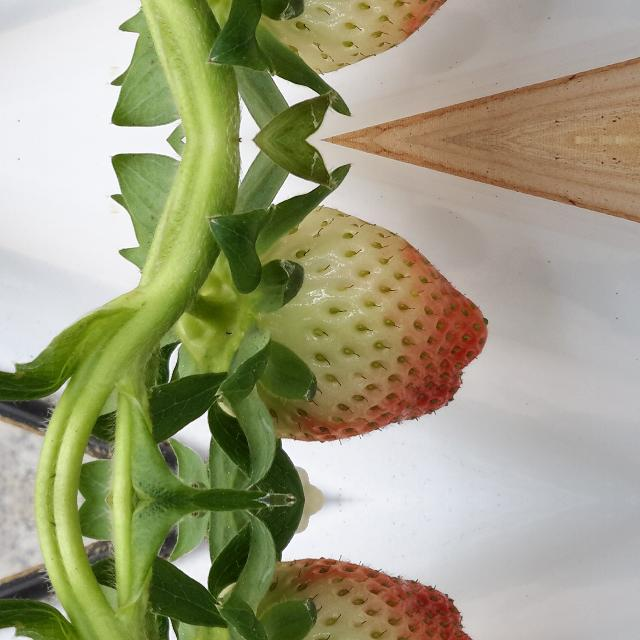Health_50: (258, 206, 488, 444), (258, 556, 488, 640), (258, 0, 488, 73)
